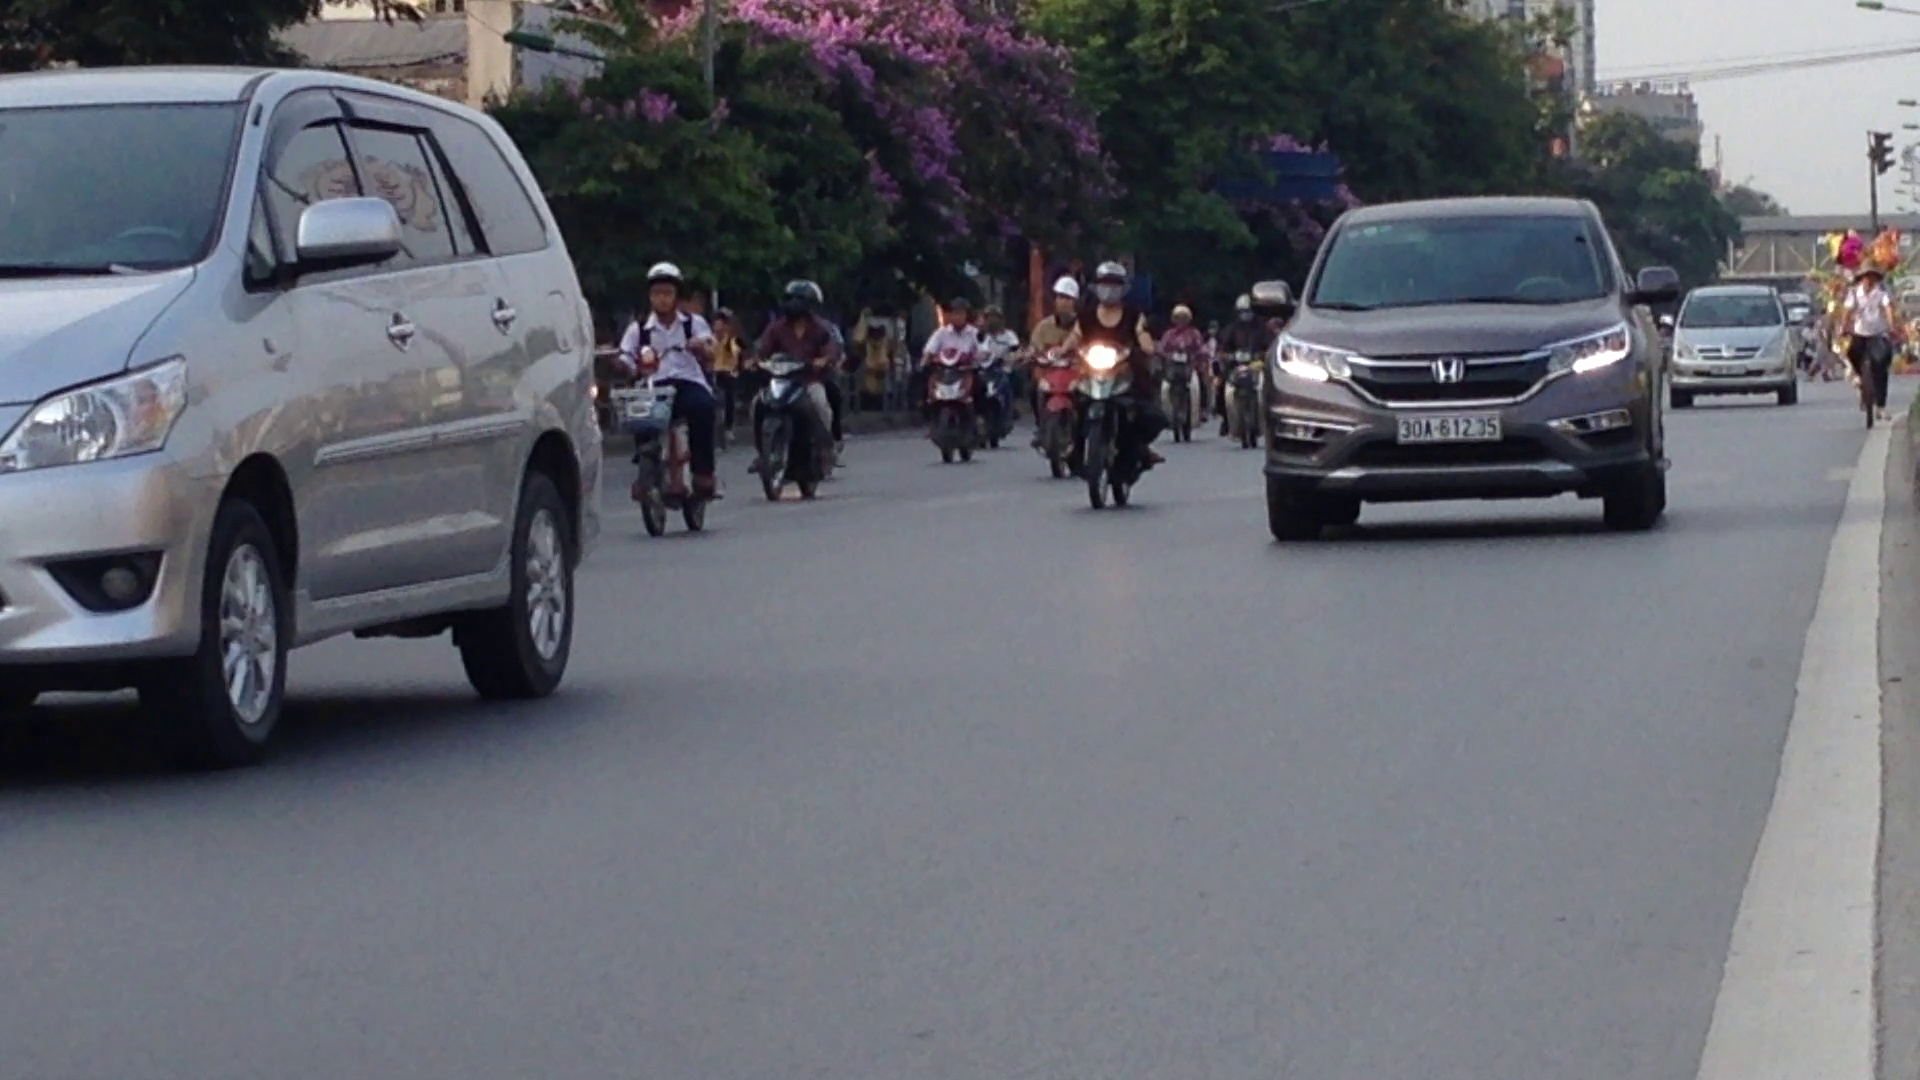vehicle-plate: (1388, 404, 1503, 445)
